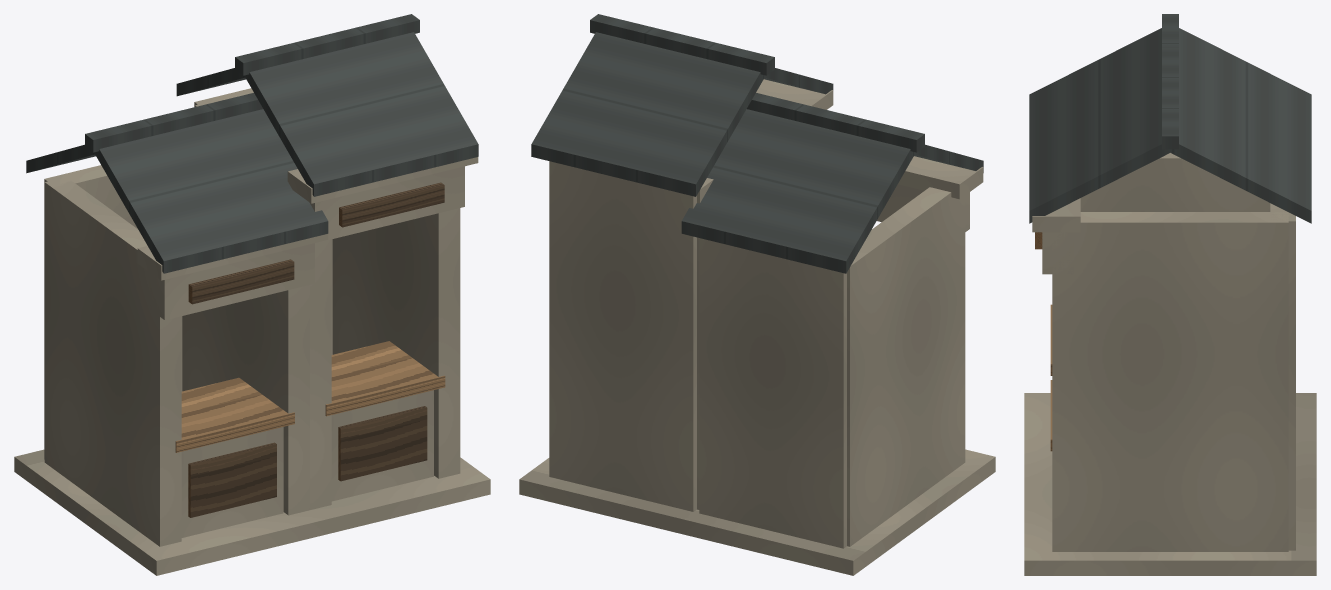
File: lusaka.glb
3 renders of one model, left to right at view 1: azimuth 30°, elevation 25°; view 2: azimuth 150°, elevation 25°; view 3: azimuth 270°, elevation 25°, orthographic. The views are drawn at different scales.
Parts seen in each view (by area): view 1: lusaka; view 2: lusaka; view 3: lusaka.
Part boxes in pixels (x1=…): lusaka: x1=14, y1=14, x2=490, y2=575; lusaka: x1=519, y1=14, x2=995, y2=575; lusaka: x1=1024, y1=14, x2=1316, y2=575.
Bounding box in the file's own units: 2.05 × 2.5 × 1.51.
1 material, 1 textured.
